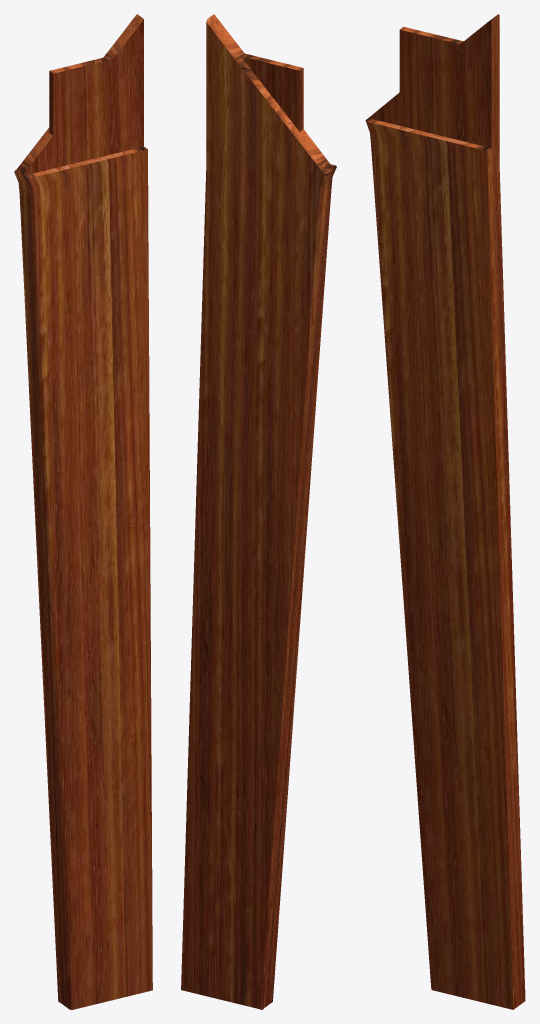
Rendered from GMY_J_humence_01.FBX.
The picture shows the model from 3 angles, left to right: view 1: azimuth 30°, elevation 25°; view 2: azimuth 150°, elevation 25°; view 3: azimuth 330°, elevation 25°; orthographic projection. The views are drawn at different scales.
Visible parts, largest first — view 1: GMY_J_humence_01; view 2: GMY_J_humence_01; view 3: GMY_J_humence_01.
Boxes of the visible parts, bbox=[...] form: GMY_J_humence_01: bbox=[14, 14, 152, 1009]; GMY_J_humence_01: bbox=[181, 14, 336, 1009]; GMY_J_humence_01: bbox=[365, 14, 525, 1009].
Bounding box in the file's own units: 6.11 × 41.59 × 1.77.
